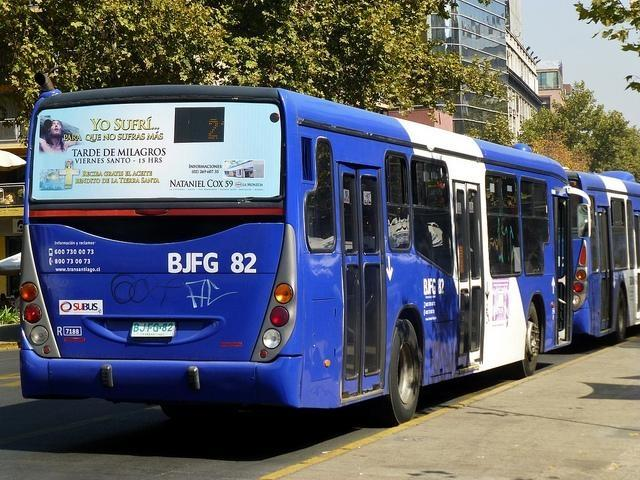bus: (24, 93, 572, 424), (572, 170, 640, 342)
